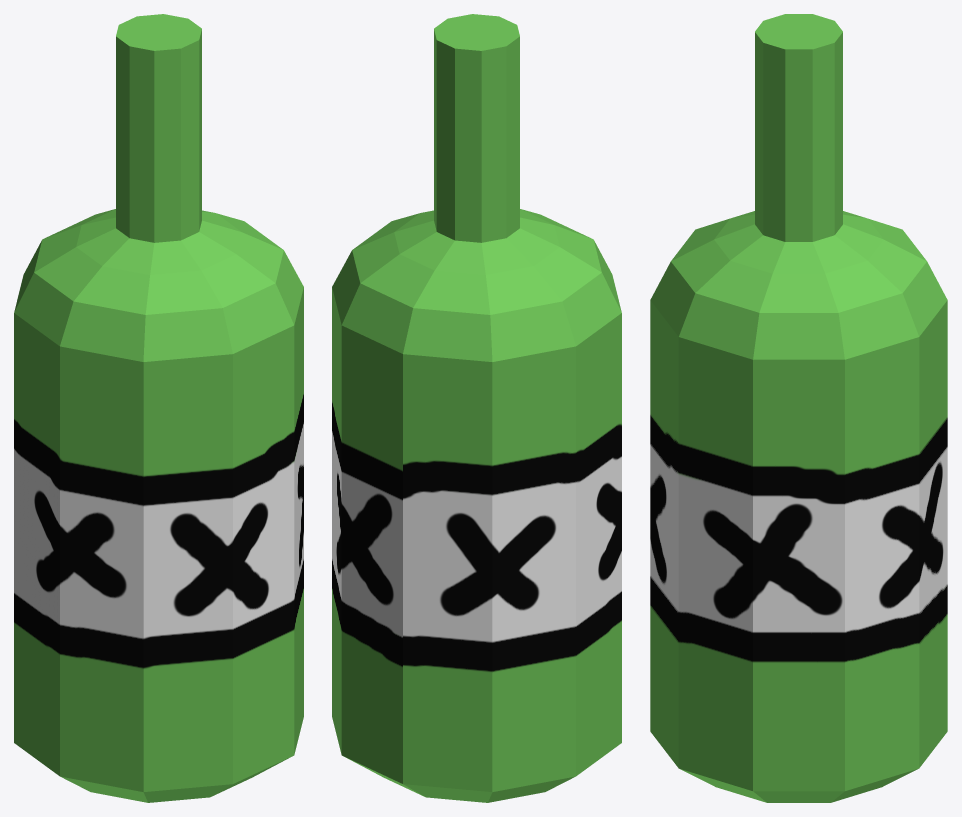
The model's file is Garrafa.glb.
3 renders of one model, left to right at view 1: azimuth 30°, elevation 25°; view 2: azimuth 150°, elevation 25°; view 3: azimuth 270°, elevation 25°, orthographic.
Visible parts, largest first — view 1: Cylinder; view 2: Cylinder; view 3: Cylinder.
Part boxes in pixels (x1=…): Cylinder: x1=14, y1=14, x2=303, y2=802; Cylinder: x1=332, y1=14, x2=621, y2=802; Cylinder: x1=650, y1=14, x2=947, y2=802.
Size of the model in its own units: 1.9 by 5.42 by 2.
1 material, 1 textured.
